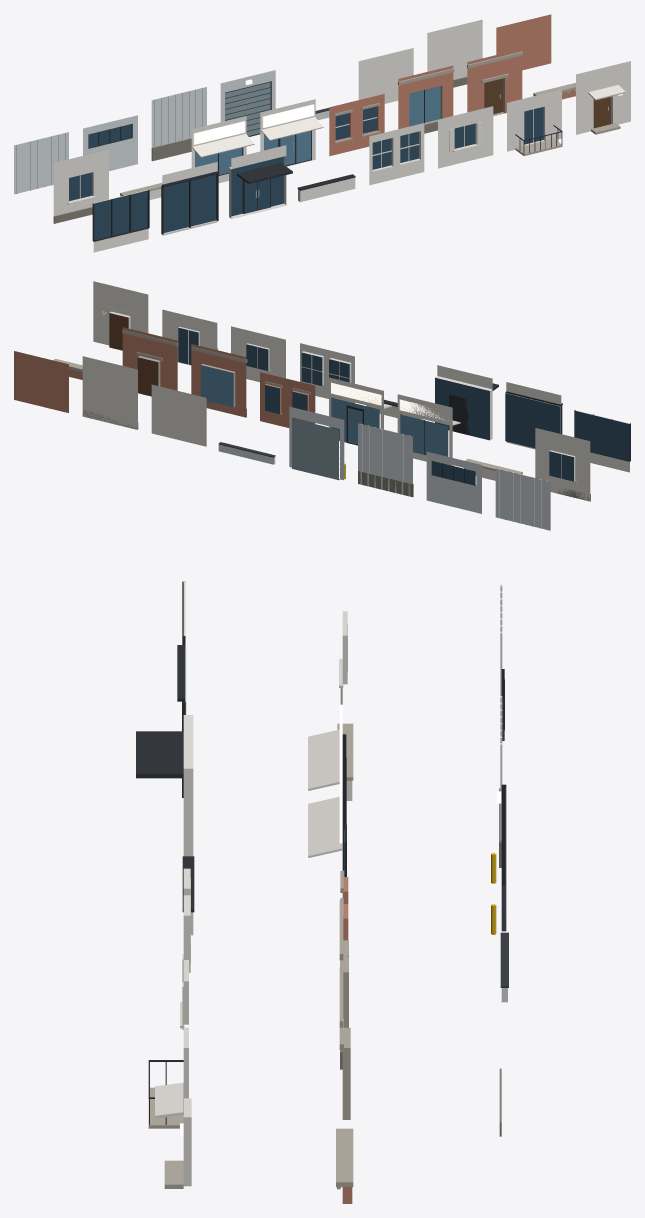
Rendered from kit_facade.glb.
3 renders of one model, top to bottom at view 1: azimuth 30°, elevation 25°; view 2: azimuth 150°, elevation 25°; view 3: azimuth 270°, elevation 25°, orthographic. The views are drawn at different scales.
Parts seen in each view (by area): view 1: bm_office_door, bm_office_ground, bm_apt_ground_door, bm_apt_ground_window, bm_ind_ground, bm_apt_balcony, bm_brick_ground, bm_brick_door, bm_shop_door, bm_office_upper, bm_apt_window, bm_grid_upper (+9 smaller); view 2: bm_blank_ground, bm_ind_door, bm_ind_ground, bm_brick_ground, bm_office_door, bm_apt_ground_window, bm_office_ground, bm_apt_ground_door, bm_shop_window, bm_brick_door, bm_ind_upper, bm_ind_window (+10 smaller); view 3: bm_office_door, bm_shop_door, bm_apt_ground_door, bm_shop_window, bm_ind_door, bm_parapet_brick, bm_apt_balcony, bm_brick_door, bm_brick_ground.
Part boxes in pixels (x1,y1,x2,y2): bm_office_door: (229,145,292,218); bm_office_ground: (161,162,219,235); bm_apt_ground_door: (576,61,630,134); bm_apt_ground_window: (53,149,108,223); bm_ind_ground: (151,87,206,161); bm_apt_balcony: (507,89,562,155); bm_brick_ground: (398,65,454,133); bm_brick_door: (467,49,522,116); bm_shop_door: (260,99,323,166); bm_office_upper: (92,190,149,252); bm_apt_window: (438,106,493,168); bm_grid_upper: (369,123,424,185); bm_blank_ground: (82,356,138,429); bm_ind_door: (289,406,345,480); bm_ind_ground: (358,423,413,497); bm_brick_ground: (191,344,247,417); bm_office_door: (435,365,498,440); bm_apt_ground_window: (535,428,590,501); bm_office_ground: (505,382,562,449); bm_apt_ground_door: (93,281,148,350); bm_shop_window: (397,394,460,465); bm_brick_door: (122,327,178,396); bm_ind_upper: (495,468,550,530); bm_ind_window: (426,451,481,513); bm_office_door: (136,715,193,856); bm_shop_door: (308,772,346,876); bm_apt_ground_door: (155,1082,191,1188); bm_shop_window: (308,704,346,823); bm_ind_door: (491,784,506,934); bm_parapet_brick: (336,1128,353,1203); bm_apt_balcony: (148,1027,188,1128); bm_brick_door: (339,967,350,1119); bm_brick_ground: (339,900,348,1069).
Size of the model in its own units: 39.04 by 4.2 by 11.73.
